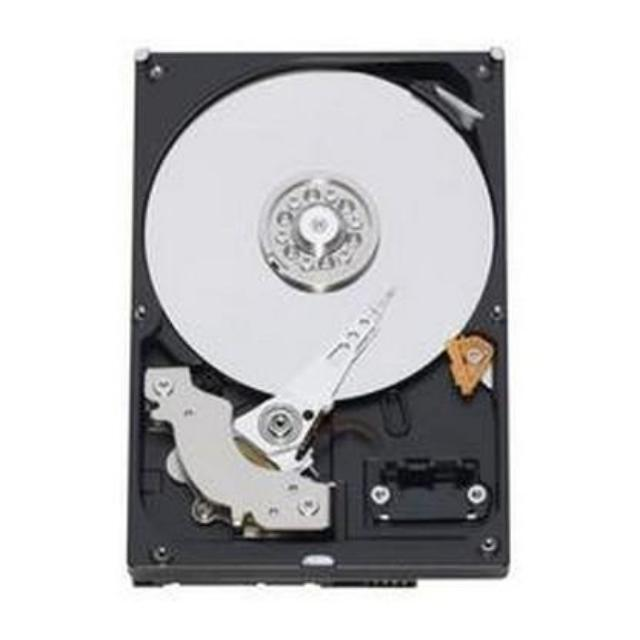DISK: (127, 49, 516, 582)
